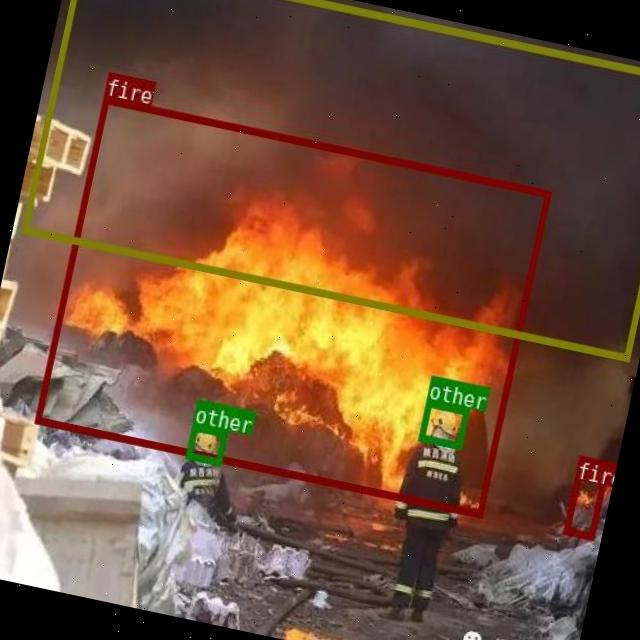fire: (34, 94, 550, 516), (562, 454, 609, 538)
smoke: (20, 0, 640, 360)
